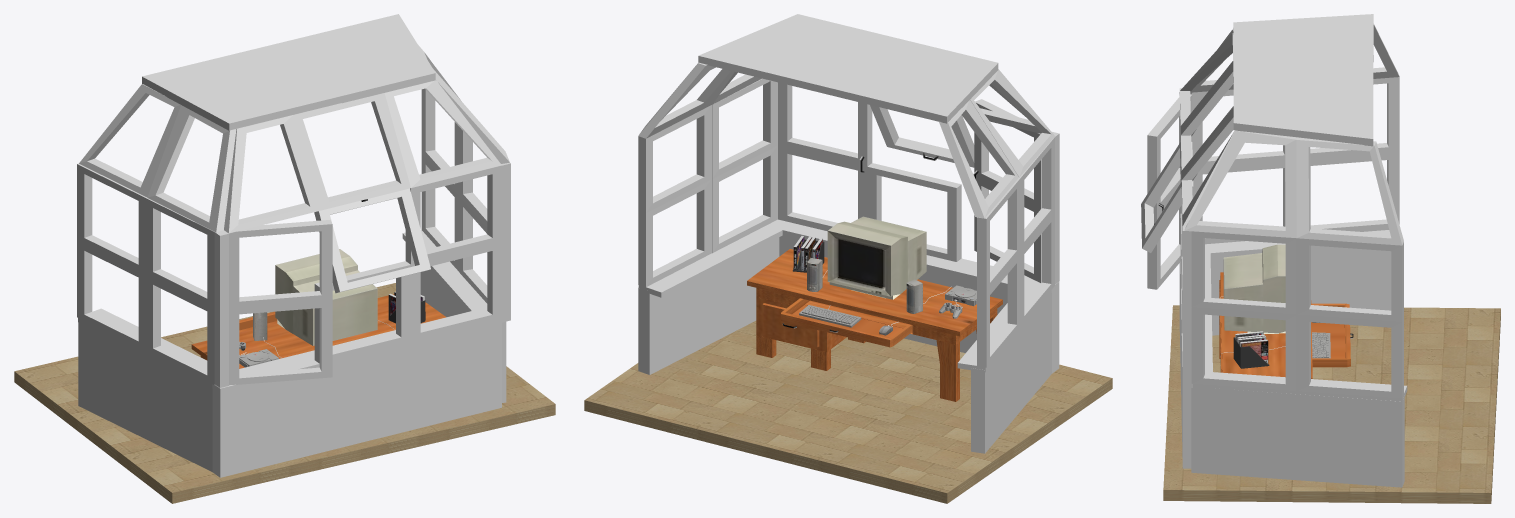
The picture shows the model from 3 angles, left to right: view 1: azimuth 30°, elevation 25°; view 2: azimuth 150°, elevation 25°; view 3: azimuth 270°, elevation 25°; orthographic projection. The views are drawn at different scales.
Parts seen in each view (by area): view 1: Cube.017, hinge, hinge.004, Cube.019, Cube.012, crt, Cube.023, Cube.028, Cube.027, Cube.006, window.001, Cube.020 (+18 smaller); view 2: hinge.004, hinge, Cube.018, Cube.019, crt, Desk Top, Cube.010, Cube.012, Cube.024, Cube.022, window, Cube.007 (+18 smaller); view 3: hinge.004, Cube.018, hinge, Cube.010, Cube.019, crt, Cube.026, Cube.025, Cube.024, Cube.009, Cube.012, Cube.005 (+16 smaller).
Boxes of the visible parts, box(x1,y1,x2,y2) form: Cube.017: box(212, 321, 501, 477); hinge: box(142, 14, 435, 130); hinge.004: box(14, 283, 555, 503); Cube.019: box(78, 322, 212, 471); Cube.012: box(77, 241, 214, 385); crt: box(275, 249, 377, 345); Cube.023: box(147, 105, 236, 232); Cube.028: box(224, 115, 319, 233); Cube.027: box(293, 93, 410, 210); Cube.006: box(229, 219, 332, 308); window.001: box(229, 300, 332, 385); Cube.020: box(384, 80, 501, 187); hinge.004: box(584, 321, 1112, 503); hinge: box(698, 14, 998, 123); Cube.018: box(638, 237, 779, 374); Cube.019: box(971, 293, 1051, 453); crt: box(827, 216, 926, 299); Desk Top: box(747, 249, 1002, 336); Cube.010: box(638, 145, 777, 287); Cube.012: box(977, 212, 1054, 367); Cube.024: box(638, 105, 711, 212); Cube.022: box(939, 100, 1018, 218); window: box(867, 163, 961, 261); Cube.007: box(778, 82, 872, 166); hinge.004: box(1163, 305, 1500, 503); Cube.018: box(1191, 387, 1404, 487); hinge: box(1233, 14, 1373, 146); Cube.010: box(1191, 307, 1403, 398); Cube.019: box(1210, 248, 1391, 335); crt: box(1223, 244, 1285, 333); Cube.026: box(1296, 137, 1403, 245); Cube.025: box(1184, 130, 1296, 237); Cube.024: box(1296, 238, 1403, 322); Cube.009: box(1191, 231, 1296, 314); Cube.012: box(1192, 152, 1399, 244); Cube.005: box(1141, 142, 1193, 252).
Bounding box in the file's own units: 2.72 × 2.27 × 2.2.
Materials: 26 (17 with a texture image).
